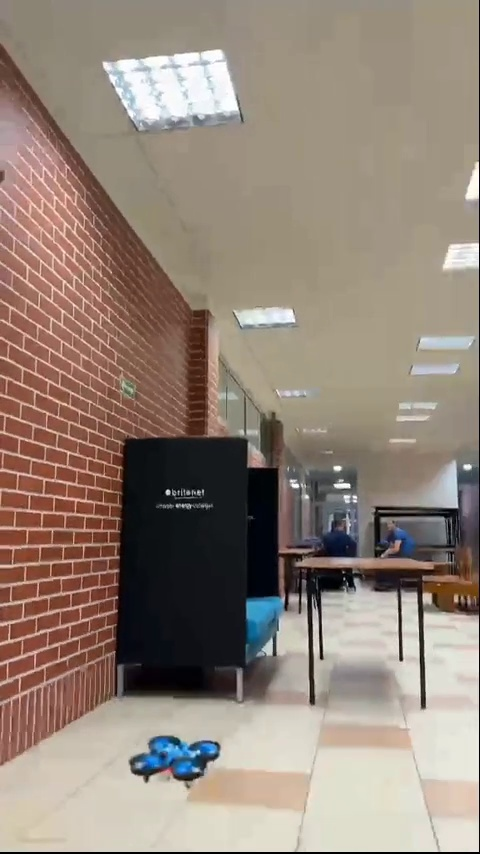drone: (133, 735, 219, 782)
no vest: (375, 508, 418, 565), (312, 515, 360, 555)
